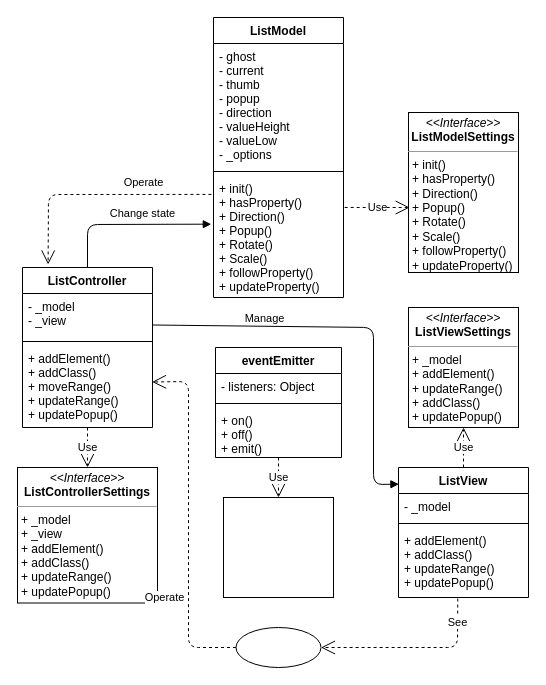
This 546x685 diagram has some shape labels left out. The shapes that lost their labels are listed below. From the top down, each one's centre as x and y in pixels, then its label:
At pixel 278 547: "<<Interface>> Emitter + on() + off() + emit()".
At pixel 278 647: "Use Case".
